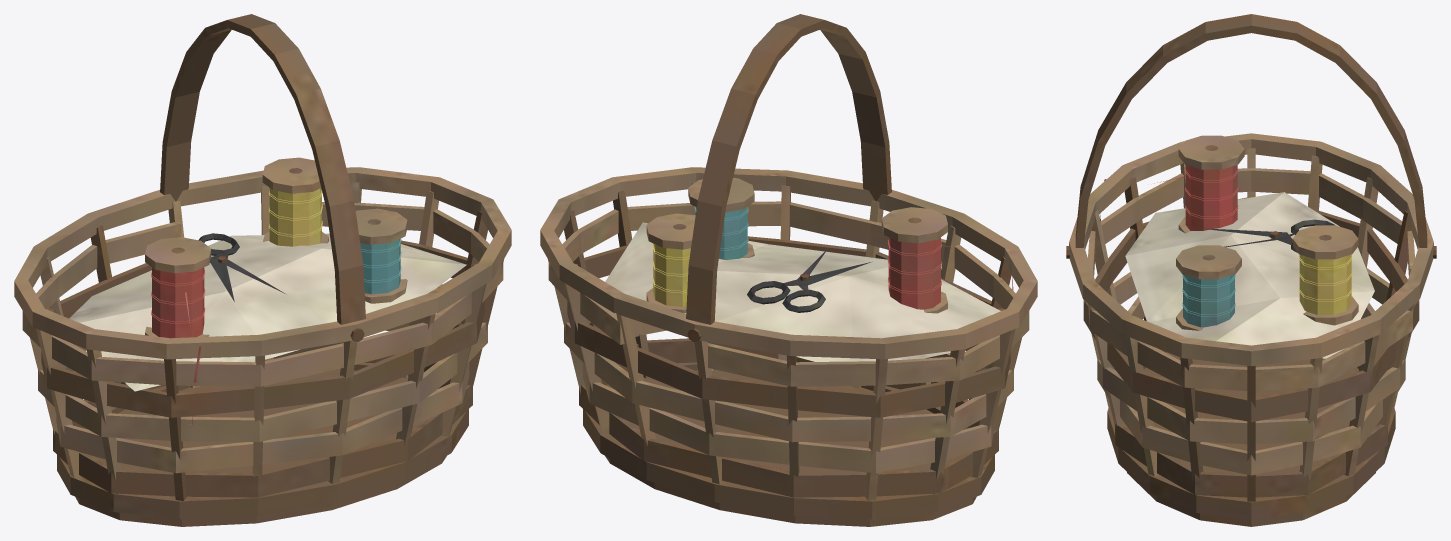
The model's file is L25_sewing_basket.glb.
The picture shows the model from 3 angles, left to right: view 1: azimuth 30°, elevation 25°; view 2: azimuth 150°, elevation 25°; view 3: azimuth 270°, elevation 25°; orthographic projection. The views are drawn at different scales.
Visible parts, largest first — view 1: Dark recessed basket floor; view 2: Dark recessed basket floor; view 3: Dark recessed basket floor.
Part boxes in pixels (<box>): Dark recessed basket floor: <box>14,14,511,526</box>; Dark recessed basket floor: <box>540,14,1037,526</box>; Dark recessed basket floor: <box>1066,14,1436,526</box>.
Bounding box in the file's own units: 0.4 × 0.3596 × 0.2872.
9 materials, 9 textured.
